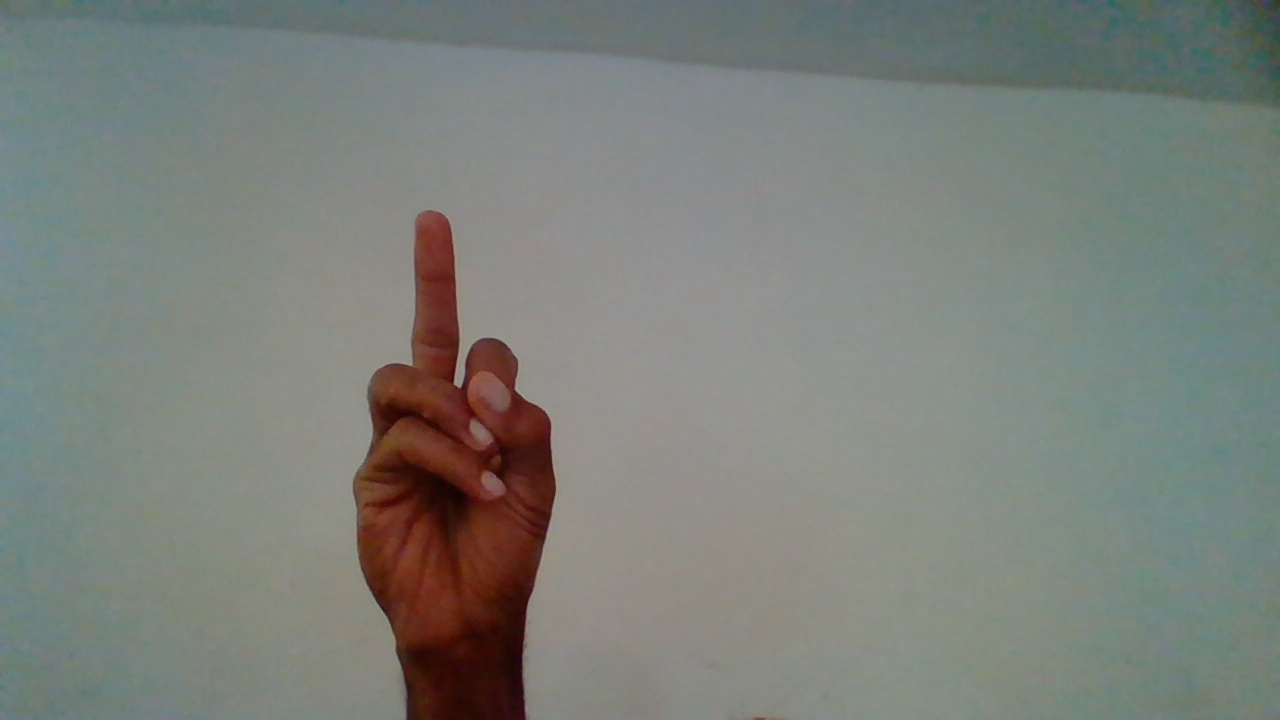he: (349, 214, 580, 701)
